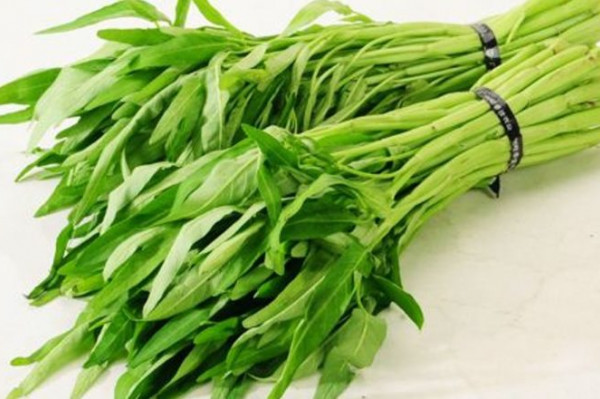Kangkung: (1, 10, 600, 382)
